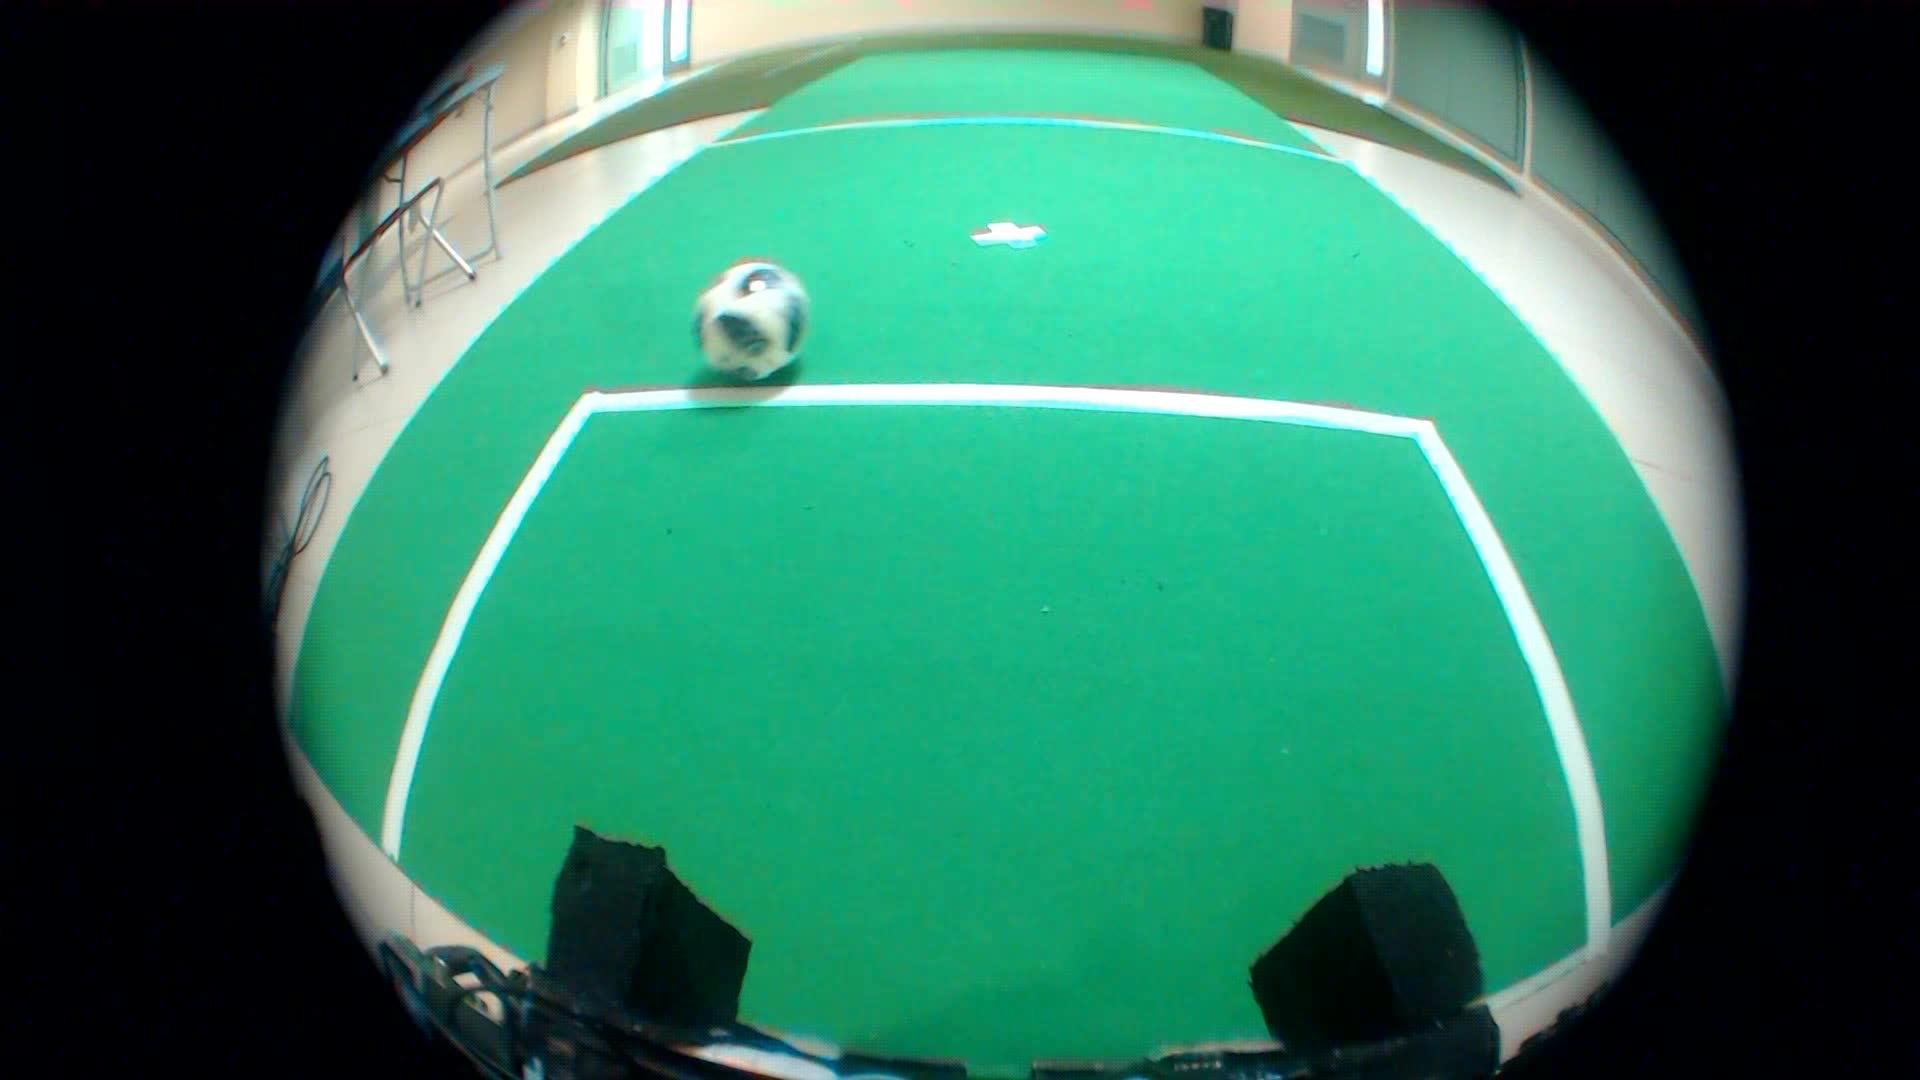ball: (679, 244, 829, 397)
